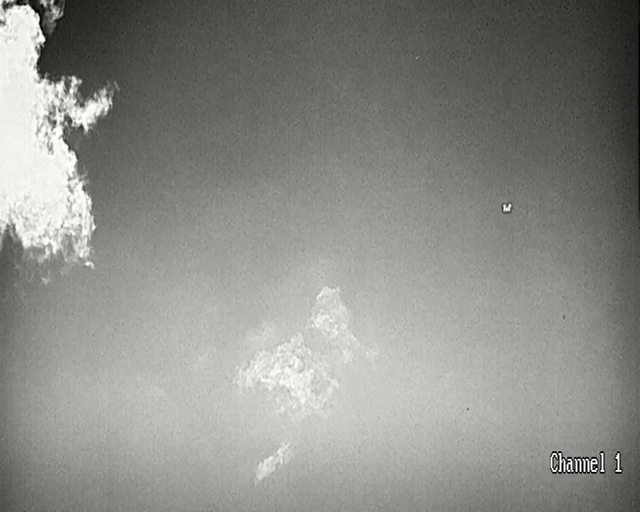uav: (502, 203, 510, 212)
